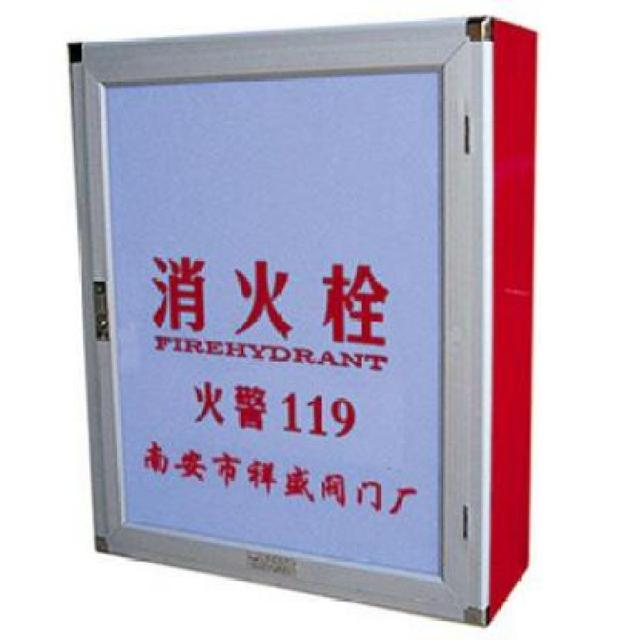firehydrant: (60, 9, 542, 636)
